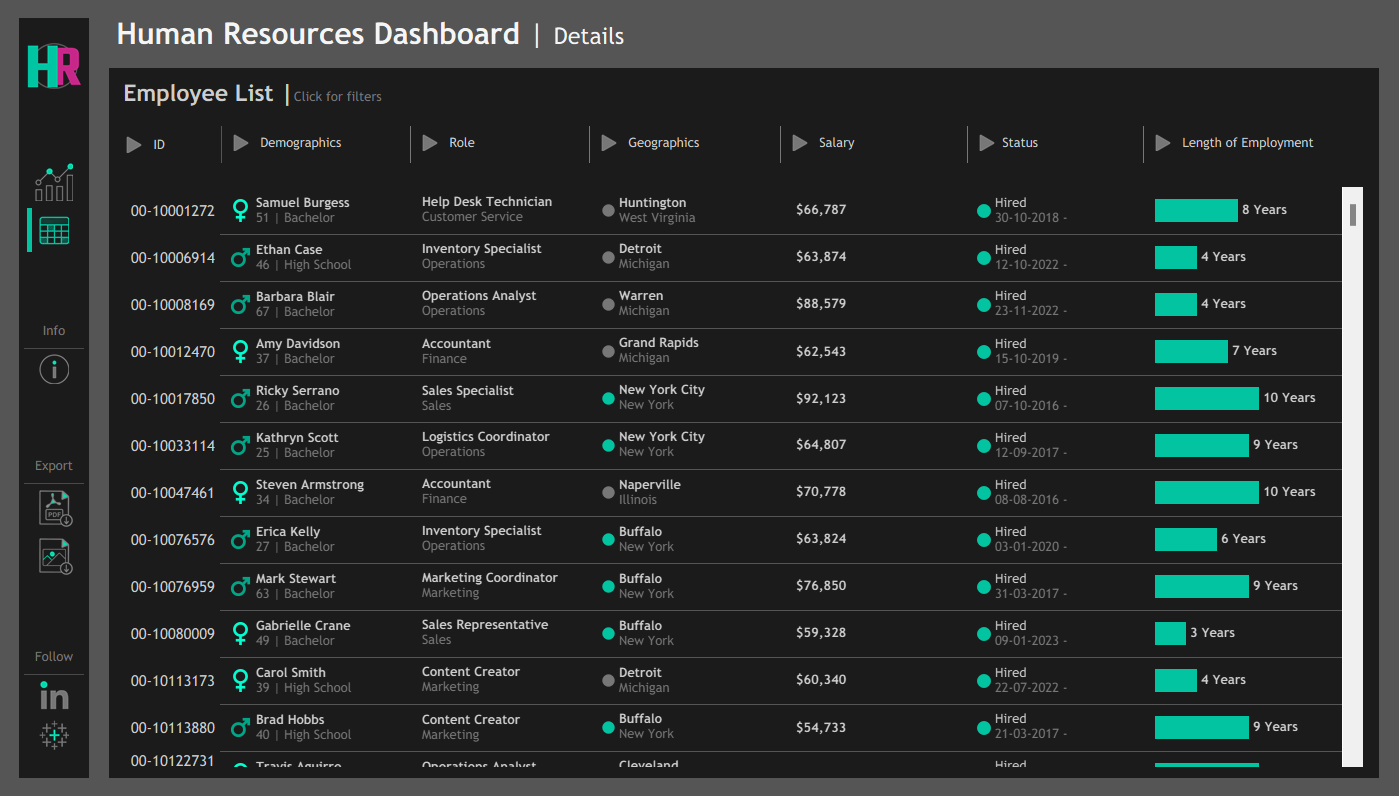

The dashboard page shown, as its layout file describes it:
{"tool":"tableau","page":{"name":"HR | Details","canvas":[1400,800],"ordinal":0},"visuals":[{"type":"blank","box":[90,0,1300,242.5]},{"type":"text","box":[110,0,679,70]},{"type":"blank","box":[789,0,591,70]},{"type":"blank","box":[20,20,70,20]},{"type":"image","param":"Image/Logo.png","box":[20,40,70,55]},{"type":"text","box":[117,77,1256,41]},{"type":"blank","box":[20,95,70,70]},{"type":"dashboard-object","box":[122,118,25,57]},{"type":"text","box":[147,118,69,57]},{"type":"blank","box":[216,118,13,57]},{"type":"dashboard-object","box":[229,118,25,54]},{"type":"text","box":[254,118,151,54]},{"type":"blank","box":[405,118,13,57]},{"type":"dashboard-object","box":[418,118,25,54]},{"type":"text","box":[443,118,74,54]},{"type":"blank","box":[584,118,13,57]},{"type":"dashboard-object","box":[597,118,25,54]},{"type":"text","box":[622,118,153,54]},{"type":"blank","box":[775,118,13,57]},{"type":"dashboard-object","box":[787.9,118,25,54]},{"type":"text","box":[812.9,118,149,54]},{"type":"blank","box":[962,118,17,57]},{"type":"dashboard-object","box":[979,118,17,54]},{"type":"text","box":[995.9,118,142,54]},{"type":"blank","box":[1137.9,118,13,57]},{"type":"dashboard-object","box":[1150.9,118,25,54]},{"type":"text","box":[1175.9,118,197.1,54]},{"type":"dashboard-object","box":[20,165,70,38]},{"type":"filter","title":"Employee Details","param":"[federated.0klv7670mzphvd1e4jksi1jok0kk].[none:Calculation_0302152922402826:nk]","box":[229,172,176,56]},{"type":"filter","title":"Employee Details","param":"[federated.0klv7670mzphvd1e4jksi1jok0kk].[none:Job Title:nk]","box":[418,172,166,56]},{"type":"filter","title":"Employee Details","param":"[federated.0klv7670mzphvd1e4jksi1jok0kk].[none:Calculation_0730412108476421:nk]","box":[597,172,178,56]},{"type":"filter","title":"Employee Details","param":"[federated.0klv7670mzphvd1e4jksi1jok0kk].[sum:Salary:qk]","box":[787.9,172,174,68]},{"type":"filter","title":"Employee Details","param":"[federated.0klv7670mzphvd1e4jksi1jok0kk].[none:Calculation_0730412158074890:nk]","box":[979,172,159,56]},{"type":"filter","title":"Employee Details","param":"[federated.0klv7670mzphvd1e4jksi1jok0kk].[sum:Calculation_0302152925863947:qk]","box":[1150.9,172,222.1,68]},{"type":"filter","title":"Employee Details","param":"[federated.0klv7670mzphvd1e4jksi1jok0kk].[none:Employee_ID:nk]","box":[122,175,94,53]},{"type":"worksheet","title":"Employee Details","mark":"Shape","rows":["Employee_ID"],"cols":["Calculation_0302152921419785","Calculation_0302152921419785","Calculation_0302152921419785","Calculation_0302152921419785","Calculation_0302152921419785","Calculation_0302152925863947"],"box":[117,185,1256,588]},{"type":"blank","box":[20,203,70,10]},{"type":"blank","box":[28,210,5,44]},{"type":"dashboard-object","box":[20,213,70,38]},{"type":"filter","title":"Employee Details","param":"[federated.0klv7670mzphvd1e4jksi1jok0kk].[none:Gender:nk]","box":[229,228,176,56]},{"type":"filter","title":"Employee Details","param":"[federated.0klv7670mzphvd1e4jksi1jok0kk].[none:Department:nk]","box":[418,228,166,56]},{"type":"filter","title":"Employee Details","param":"[federated.0klv7670mzphvd1e4jksi1jok0kk].[none:State:nk]","box":[597,228,178,56]},{"type":"filter","title":"Employee Details","param":"[federated.0klv7670mzphvd1e4jksi1jok0kk].[yr:Hiredate:ok]","box":[979,228,159,56]},{"type":"text","box":[90,242.5,1300,315]},{"type":"blank","box":[20,251,70,70]},{"type":"filter","title":"Employee Details","param":"[federated.0klv7670mzphvd1e4jksi1jok0kk].[none:Calculation_0730412119977993:nk]","box":[229,284,176,56]},{"type":"filter","title":"Employee Details","param":"[federated.0klv7670mzphvd1e4jksi1jok0kk].[none:City:nk]","box":[597,284,178,56]},{"type":"filter","title":"Employee Details","param":"[federated.0klv7670mzphvd1e4jksi1jok0kk].[yr:Termdate:ok]","box":[979,284,159,56]},{"type":"text","box":[20,321,70,24]},{"type":"filter","title":"Employee Details","param":"[federated.0klv7670mzphvd1e4jksi1jok0kk].[none:Education Level:nk]","box":[229,340,176,56]},{"type":"blank","box":[20,345,70,11]},{"type":"dashboard-object","box":[20,356,70,30]},{"type":"blank","box":[20,386,70,70]},{"type":"text","box":[20,456,70,24]},{"type":"blank","box":[20,480,70,11]},{"type":"dashboard-object","box":[20,491,70,38]},{"type":"blank","box":[20,529,70,10]},{"type":"dashboard-object","box":[20,539,70,38]},{"type":"blank","box":[90,557.5,1300,242.5]},{"type":"blank","box":[20,577,70,70]},{"type":"text","box":[20,647,70,24]},{"type":"blank","box":[20,671,70,11]},{"type":"image","param":"Image/contact-linkedin.png","box":[20,682,70,30]},{"type":"blank","box":[20,712,70,10]},{"type":"image","param":"Image/contact-public.png","box":[20,722,70,30]}]}

Visuals, with their boxes on the page's 1400x800 design canvas (x1, y1, x2, y2). These are canvas units, not pixel positions in the 1399x796 screenshot, which may show the page scaled, cropped or inside an application window:
blank: (90,0,1390,242)
text: (110,0,789,70)
blank: (789,0,1380,70)
blank: (20,20,90,40)
image: (20,40,90,95)
text: (117,77,1373,118)
blank: (20,95,90,165)
dashboard-object: (122,118,147,175)
text: (147,118,216,175)
blank: (216,118,229,175)
dashboard-object: (229,118,254,172)
text: (254,118,405,172)
blank: (405,118,418,175)
dashboard-object: (418,118,443,172)
text: (443,118,517,172)
blank: (584,118,597,175)
dashboard-object: (597,118,622,172)
text: (622,118,775,172)
blank: (775,118,788,175)
dashboard-object: (788,118,813,172)
text: (813,118,962,172)
blank: (962,118,979,175)
dashboard-object: (979,118,996,172)
text: (996,118,1138,172)
blank: (1138,118,1151,175)
dashboard-object: (1151,118,1176,172)
text: (1176,118,1373,172)
dashboard-object: (20,165,90,203)
"Employee Details" filter: (229,172,405,228)
"Employee Details" filter: (418,172,584,228)
"Employee Details" filter: (597,172,775,228)
"Employee Details" filter: (788,172,962,240)
"Employee Details" filter: (979,172,1138,228)
"Employee Details" filter: (1151,172,1373,240)
"Employee Details" filter: (122,175,216,228)
"Employee Details" worksheet (Shape marks): (117,185,1373,773)
blank: (20,203,90,213)
blank: (28,210,33,254)
dashboard-object: (20,213,90,251)
"Employee Details" filter: (229,228,405,284)
"Employee Details" filter: (418,228,584,284)
"Employee Details" filter: (597,228,775,284)
"Employee Details" filter: (979,228,1138,284)
text: (90,242,1390,558)
blank: (20,251,90,321)
"Employee Details" filter: (229,284,405,340)
"Employee Details" filter: (597,284,775,340)
"Employee Details" filter: (979,284,1138,340)
text: (20,321,90,345)
"Employee Details" filter: (229,340,405,396)
blank: (20,345,90,356)
dashboard-object: (20,356,90,386)
blank: (20,386,90,456)
text: (20,456,90,480)
blank: (20,480,90,491)
dashboard-object: (20,491,90,529)
blank: (20,529,90,539)
dashboard-object: (20,539,90,577)
blank: (90,558,1390,800)
blank: (20,577,90,647)
text: (20,647,90,671)
blank: (20,671,90,682)
image: (20,682,90,712)
blank: (20,712,90,722)
image: (20,722,90,752)
